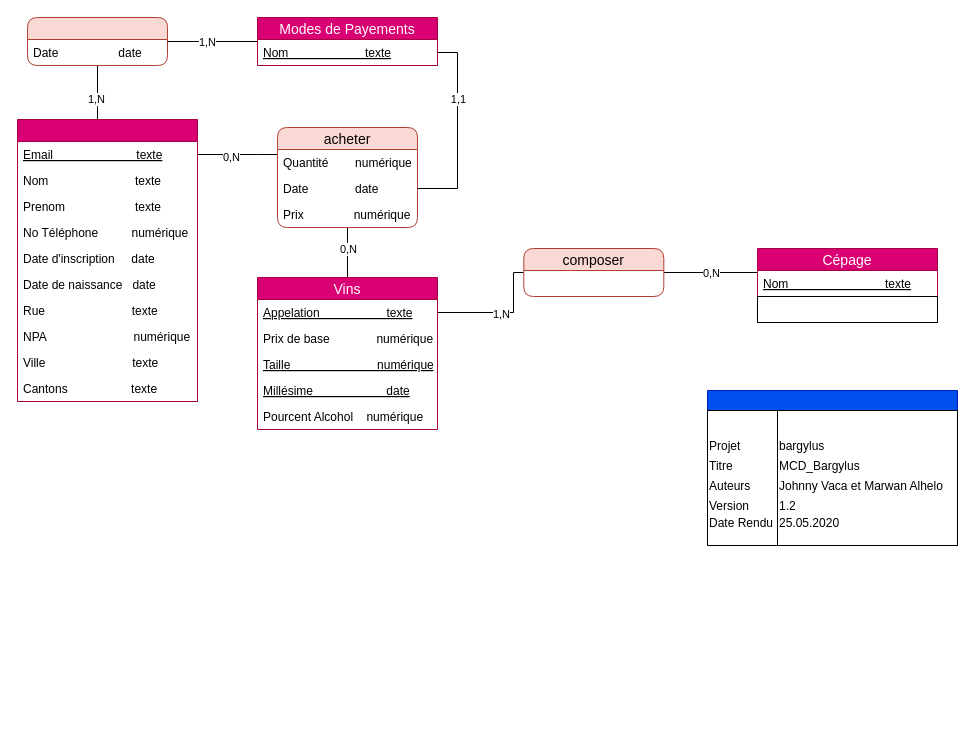
Image size: 975x753. Some labels were removed from this diagram. The box of each missing label's shape, as (x1, y1, x2, y2) in pixels:
choisir: (26, 16, 168, 66)
couleur texte: (756, 296, 938, 322)
Utilisateurs: (16, 118, 198, 402)
